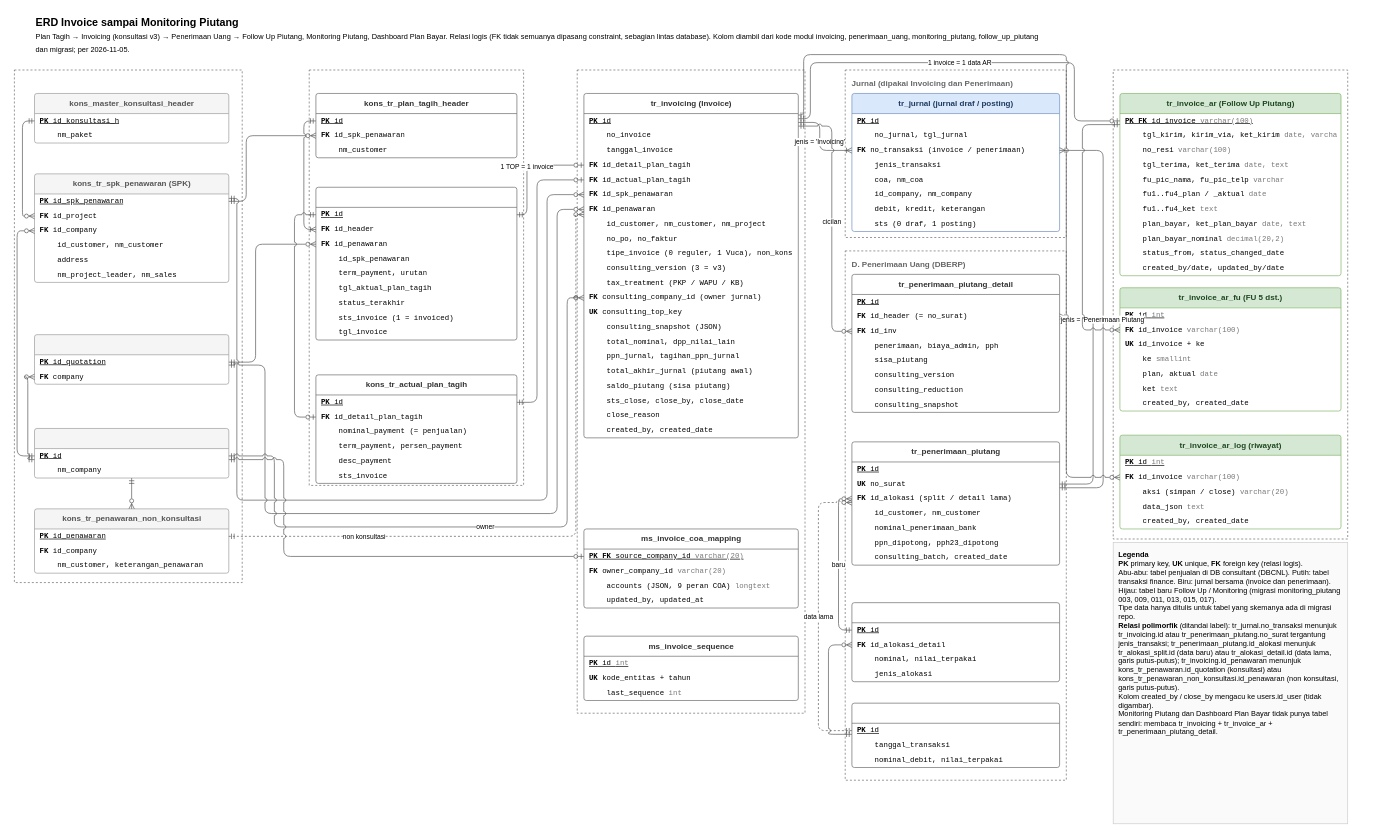
Image size: 1380x835. Some labels were removed from this diagram. The shapes that lost their labels are listed below. From the top down, each one's box as (x1, y1, x2, y2) in pixels, then its label:
(315, 187, 517, 340): kons_tr_plan_tagih_detail (TOP)
(309, 69, 524, 485): B. Plan Tagih (DBERP)
(1113, 69, 1348, 539): E. Follow Up & Monitoring Piutang (DBERP, tabel baru)
(14, 69, 242, 583): A. Penjualan Konsultasi & Non Konsultasi (DB consultant / DBCNL)
(34, 334, 229, 384): kons_tr_penawaran
(577, 69, 805, 713): C. Invoicing (DBERP)
(34, 428, 229, 478): kons_tr_company
(851, 602, 1060, 682): tr_alokasi_split
(851, 702, 1060, 767): tr_alokasi_detail (mutasi bank)
